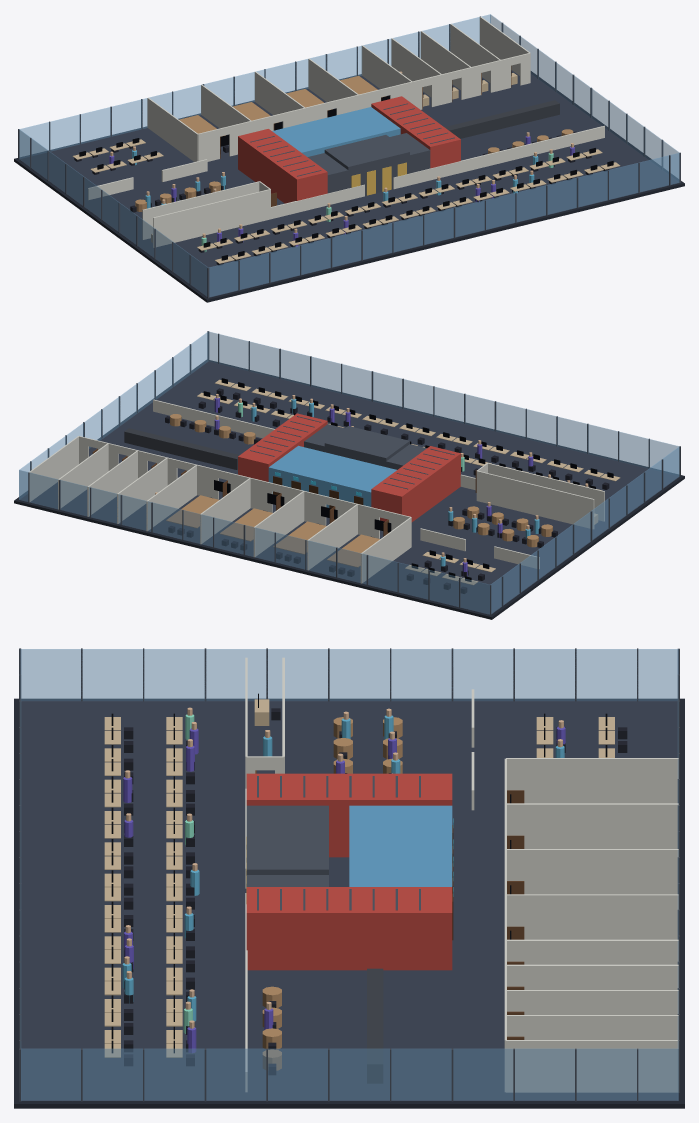
3 renders of one model, top to bottom at view 1: azimuth 30°, elevation 25°; view 2: azimuth 150°, elevation 25°; view 3: azimuth 270°, elevation 25°, orthographic. The views are drawn at different scales.
Visible parts, largest first — view 1: L25_floor_carpet, L25_glass, L25_wall, L25_core, L25_stair, L25_desk, L25_slab, L25_wash, L25_table, L25_screen, L25_counter, L25_chair (+3 smaller); view 2: L25_glass, L25_floor_carpet, L25_wall, L25_core, L25_stair, L25_slab, L25_table, L25_wash, L25_chair, L25_desk, L25_screen, L25_counter (+2 smaller); view 3: L25_floor_carpet, L25_glass, L25_wall, L25_stair, L25_core, L25_desk, L25_slab, L25_wash, L25_chair, L25_table, L25_counter, L25_role_manager (+4 smaller).
Boxes of the visible parts, x1,y1,x2,y2 form: L25_floor_carpet: (19, 70, 679, 297); L25_glass: (19, 14, 679, 296); L25_wall: (88, 17, 604, 247); L25_core: (18, 16, 680, 298); L25_stair: (238, 96, 460, 203); L25_desk: (72, 73, 620, 263); L25_slab: (14, 71, 684, 302); L25_wash: (272, 107, 400, 156); L25_table: (135, 76, 573, 211); L25_screen: (79, 71, 613, 260); L25_counter: (444, 100, 559, 138); L25_chair: (74, 78, 609, 265); L25_glass: (19, 331, 679, 614); L25_floor_carpet: (19, 361, 679, 614); L25_wall: (28, 399, 604, 583); L25_core: (28, 331, 680, 615); L25_stair: (238, 413, 460, 522); L25_slab: (14, 360, 684, 619); L25_table: (166, 414, 552, 567); L25_wash: (268, 445, 396, 507); L25_chair: (165, 388, 609, 593); L25_desk: (197, 379, 620, 585); L25_screen: (203, 378, 613, 581); L25_counter: (124, 428, 239, 469); L25_floor_carpet: (21, 700, 678, 1101); L25_glass: (20, 649, 678, 1100); L25_wall: (245, 657, 678, 1092); L25_stair: (246, 773, 452, 970); L25_core: (19, 648, 679, 1101); L25_desk: (104, 699, 614, 1057); L25_slab: (14, 698, 684, 1108); L25_wash: (349, 805, 452, 886); L25_chair: (124, 708, 627, 1075); L25_table: (262, 717, 402, 1070); L25_counter: (367, 968, 383, 1083); L25_role_manager: (123, 726, 565, 1053).
Size of the model in its own units: 46.6 by 3.37 by 32.6.
